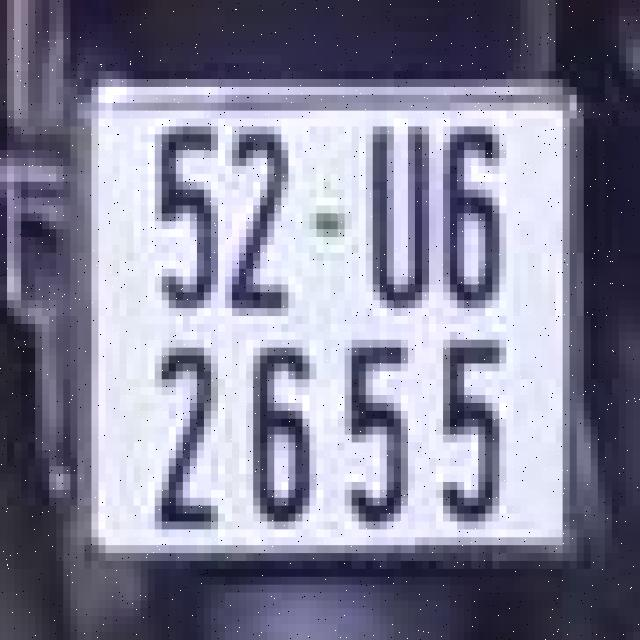2: (214, 107, 306, 320), (148, 332, 232, 537)
5: (144, 115, 236, 320), (334, 328, 426, 533), (432, 320, 510, 525)
6: (447, 115, 524, 320), (239, 336, 317, 533)
U: (366, 91, 443, 320)
